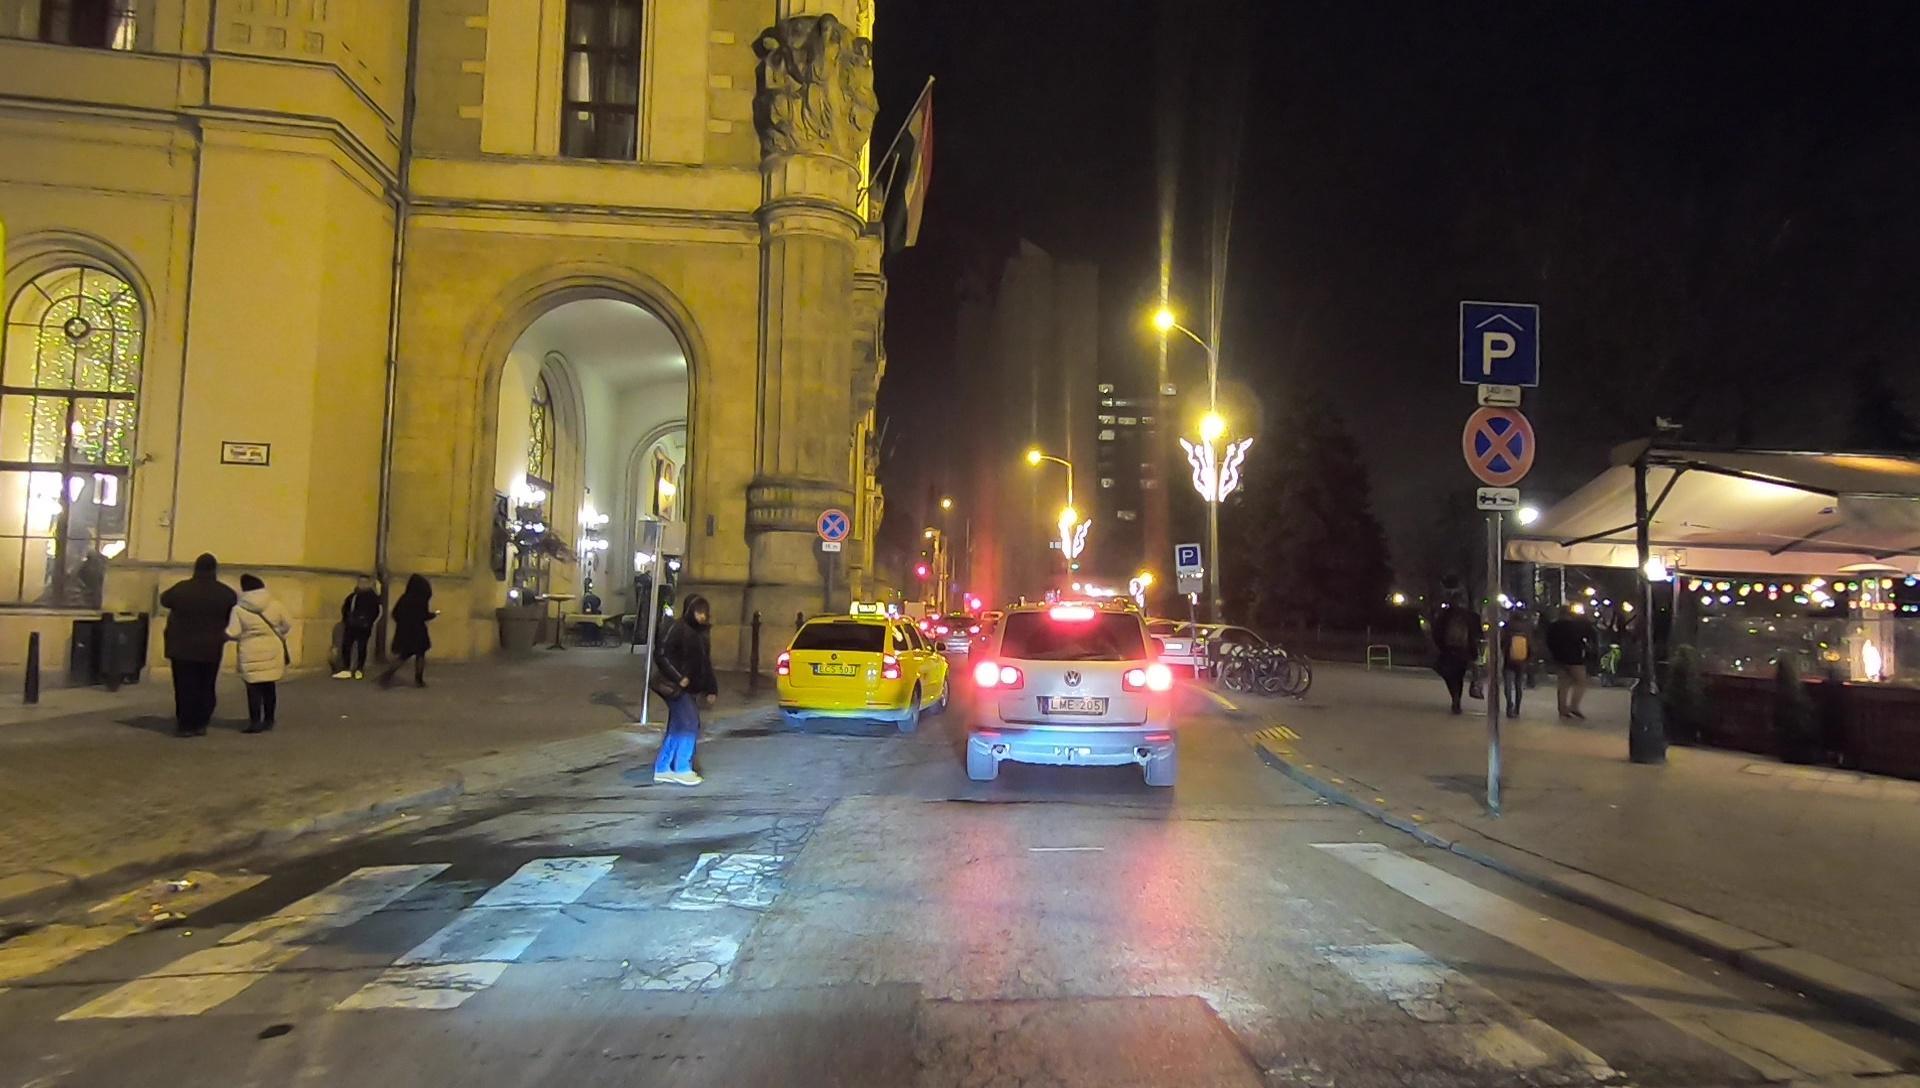person: (160, 550, 238, 734), (658, 597, 717, 787), (228, 574, 293, 728), (388, 567, 436, 689), (1432, 587, 1480, 710), (332, 563, 378, 687), (1548, 607, 1592, 723), (1499, 594, 1537, 722)
